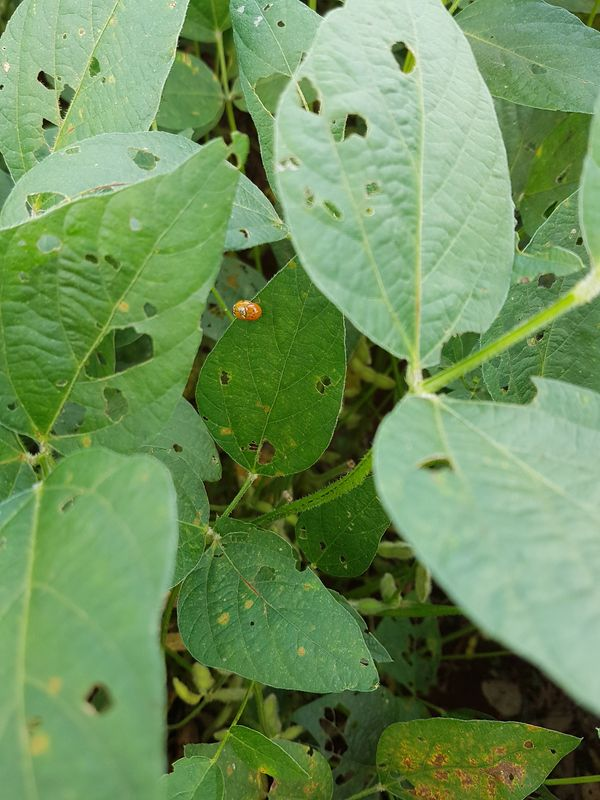Coccinellidae: (240, 302, 265, 325), (227, 298, 242, 324)
